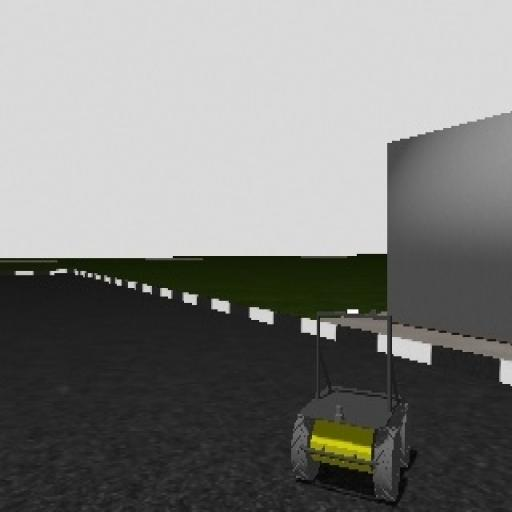huskya200: (280, 298, 422, 502)
